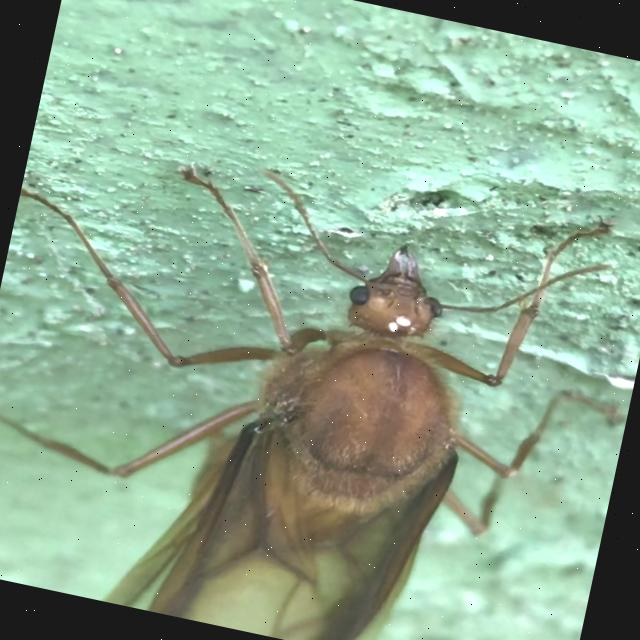Alive-Male-Alate: (0, 102, 640, 640)
